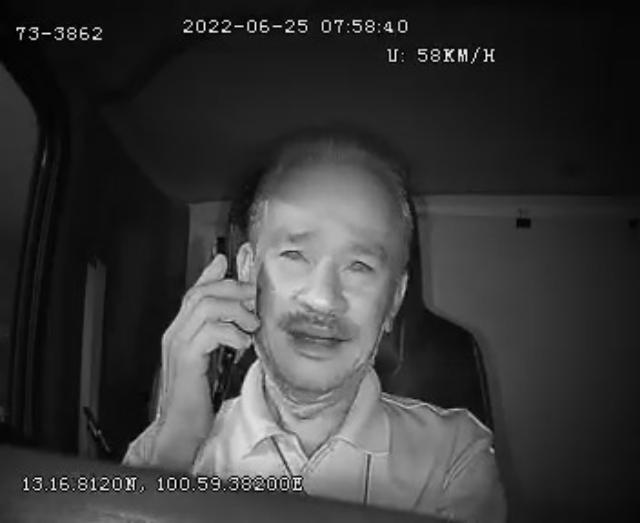PhoneUse: (201, 232, 241, 416)
SafeDriving: (335, 246, 382, 282), (272, 234, 316, 271)
